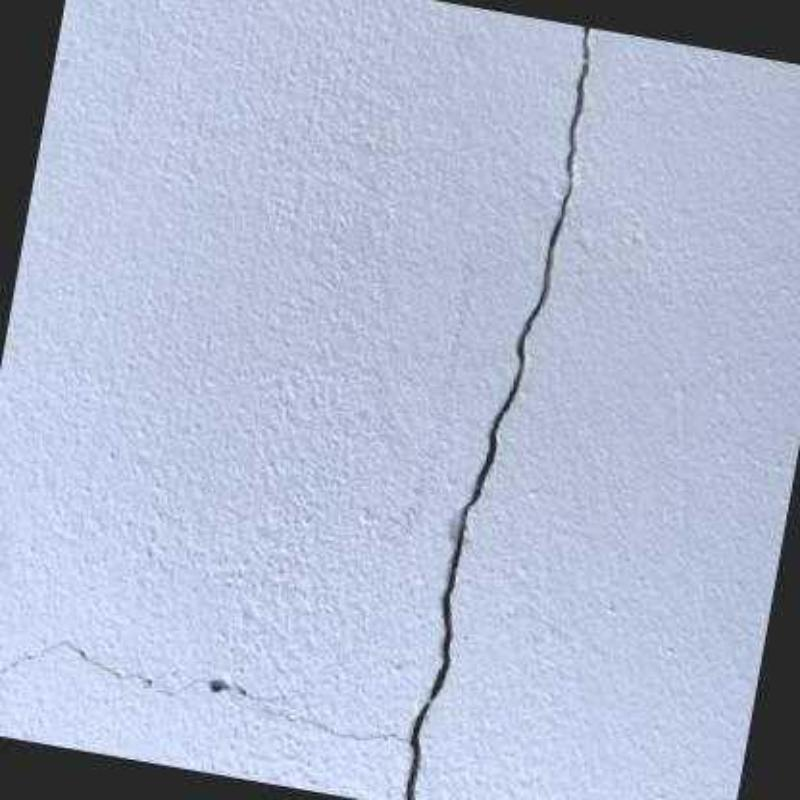pothole: (403, 26, 594, 798), (0, 642, 200, 694), (235, 685, 406, 742)
